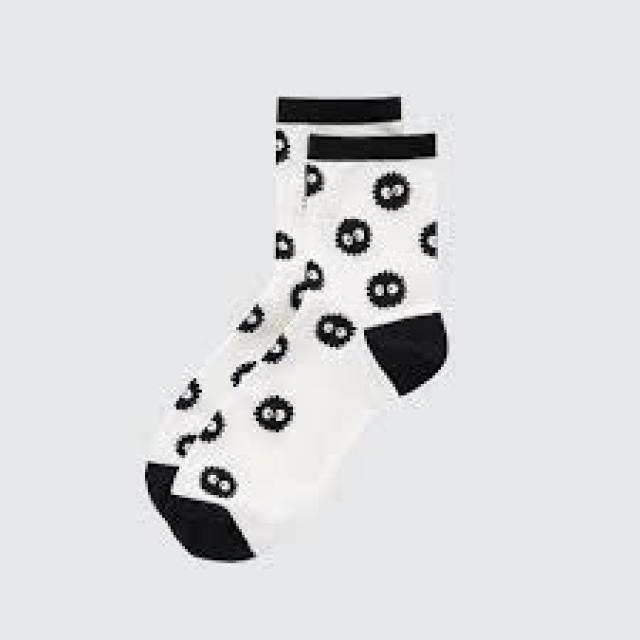sock: (143, 94, 450, 560)
